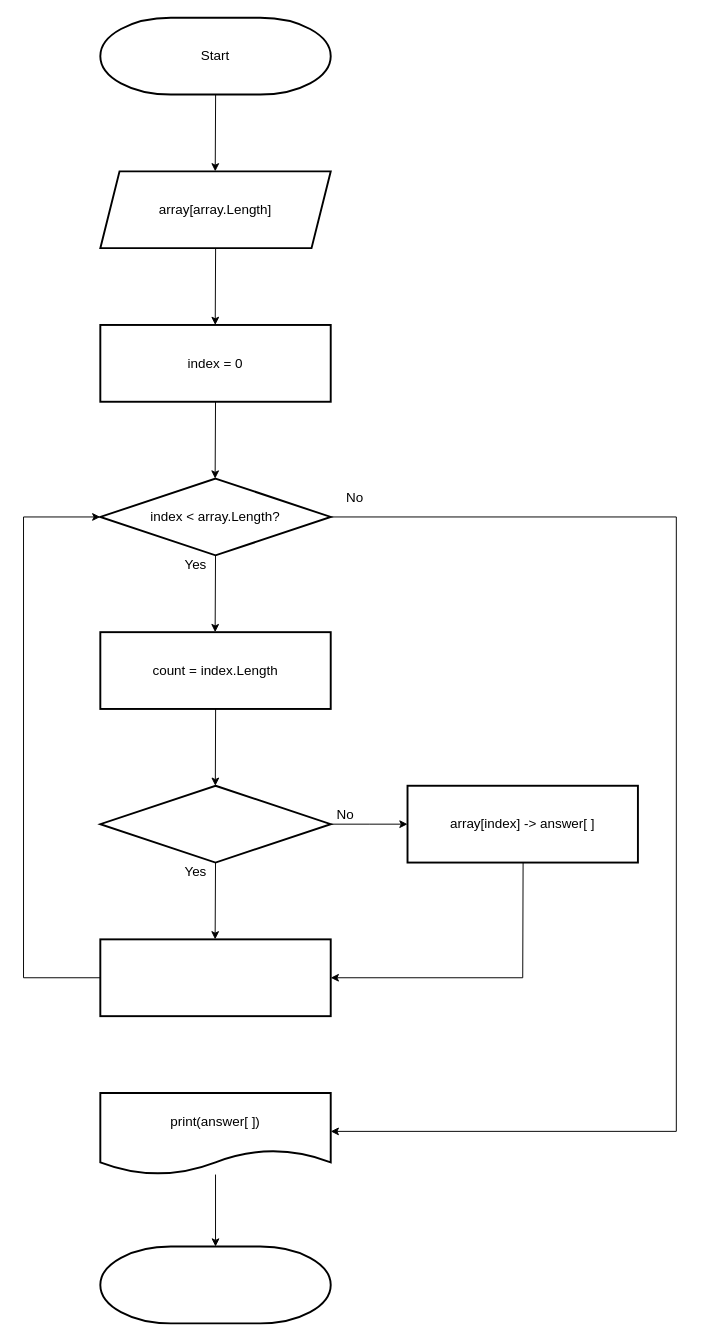
Image size: 701x1340. Some labels were removed from this diagram. The box of each missing label's shape, as (x1, y1, x2, y2) in pixels:
count > 3?: (99, 784, 331, 863)
End: (99, 1245, 331, 1324)
index++: (99, 938, 331, 1017)
